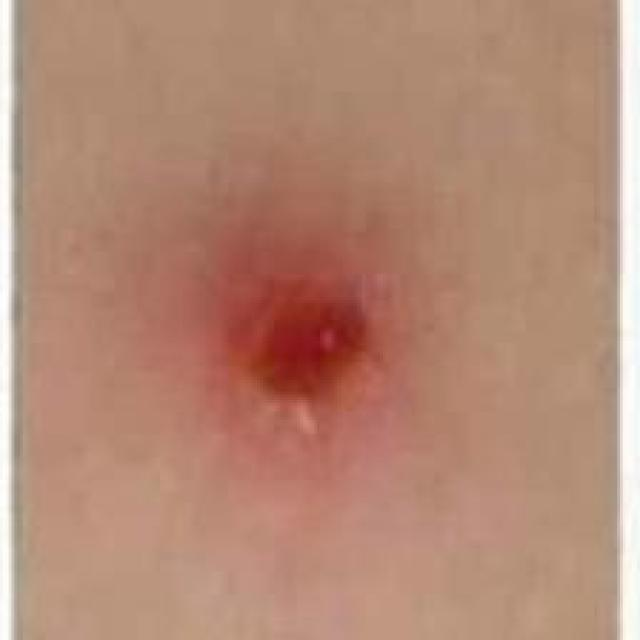others: (19, 0, 590, 640)
